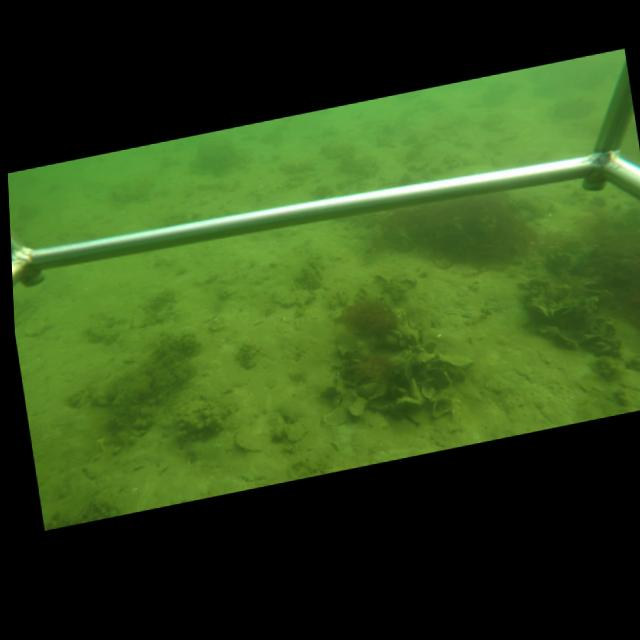Oyster-Closed: (426, 366, 453, 389), (436, 353, 474, 369), (409, 376, 428, 406), (555, 333, 579, 349)
